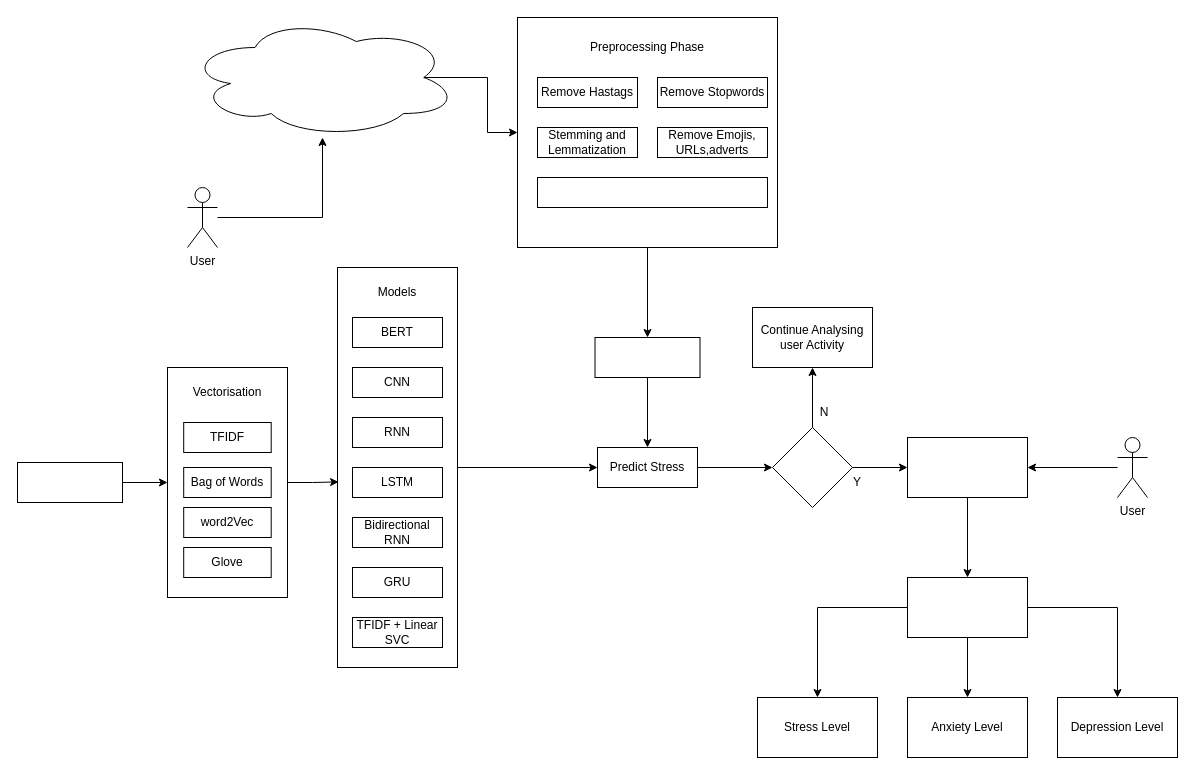
Some shapes in this 1195 by 775 pixel diagram are drawn without their labels. The centre of each missing label's shape, as x and y in pixels:
"Cleaned Training Data" belongs at point 69,482.
"Processed Data" belongs at point 647,357.
"Questionnaire Model" belongs at point 967,607.
"Stress Found" belongs at point 812,467.
"Suggest user to give a Questionnaire" belongs at point 967,467.
"Tokenization" belongs at point 652,192.
"Uploads textual data like posts, tweets, conversation,etc." belongs at point 322,77.
